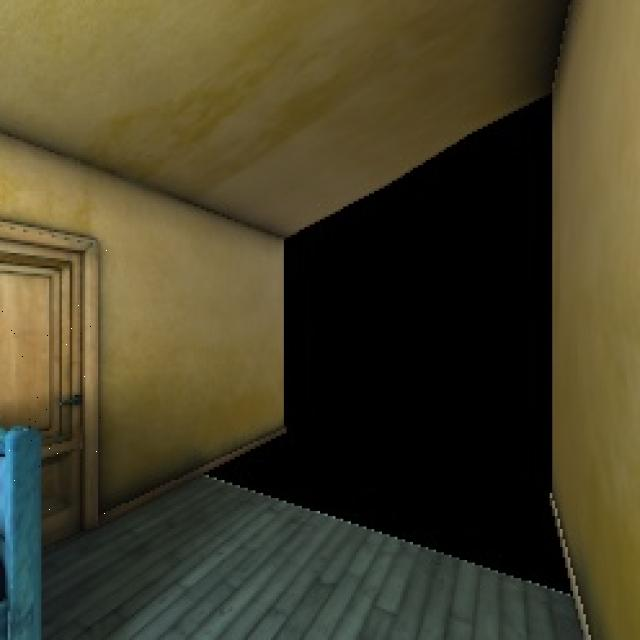door: (0, 245, 114, 516)
